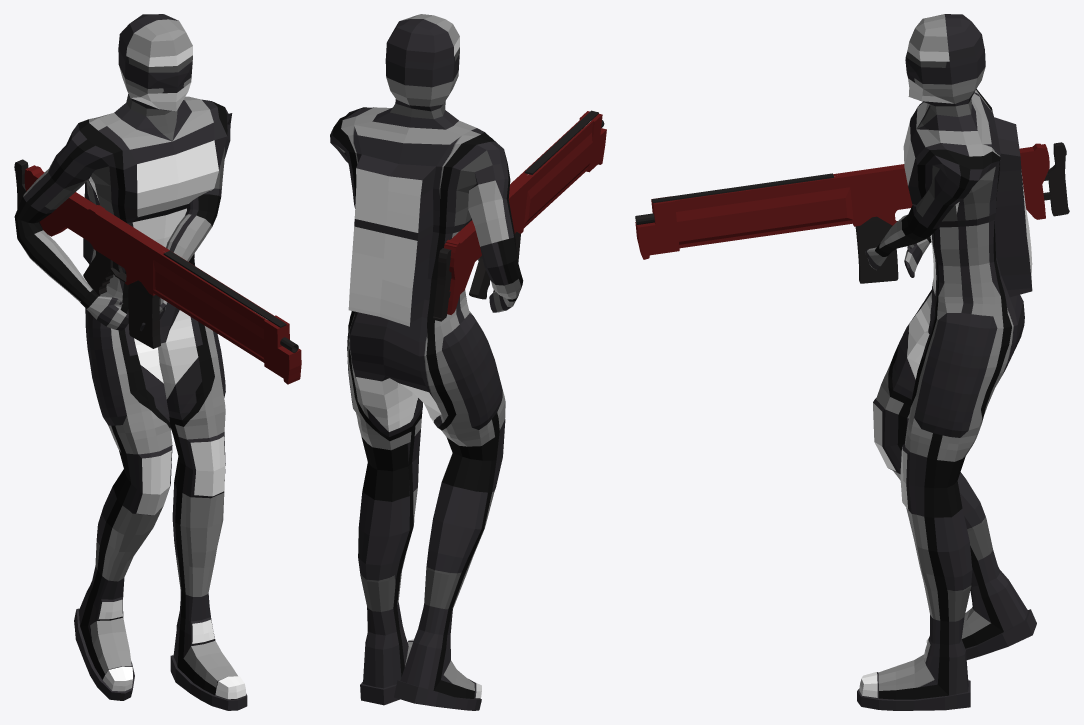
File: SCR9.obj
The picture shows the model from 3 angles, left to right: view 1: azimuth 30°, elevation 25°; view 2: azimuth 150°, elevation 25°; view 3: azimuth 270°, elevation 25°; orthographic projection. The views are drawn at different scales.
Parts seen in each view (by area): view 1: metarig_object_metarig_mesh, Cube.001; view 2: metarig_object_metarig_mesh, Cube.001; view 3: metarig_object_metarig_mesh, Cube.001.
Boxes of the visible parts, bbox=[...] form: metarig_object_metarig_mesh: bbox=[14, 14, 247, 710]; Cube.001: bbox=[14, 159, 301, 384]; metarig_object_metarig_mesh: bbox=[330, 14, 523, 710]; Cube.001: bbox=[433, 110, 606, 321]; metarig_object_metarig_mesh: bbox=[857, 14, 1036, 710]; Cube.001: bbox=[635, 142, 1069, 283].
Size of the model in its own units: 0.4703 by 1.53 by 0.9058.
2 materials, 2 textured.
